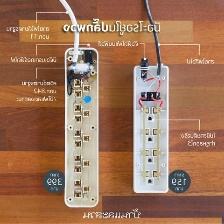three_eye_plug: (62, 44, 101, 209), (130, 61, 174, 195)
